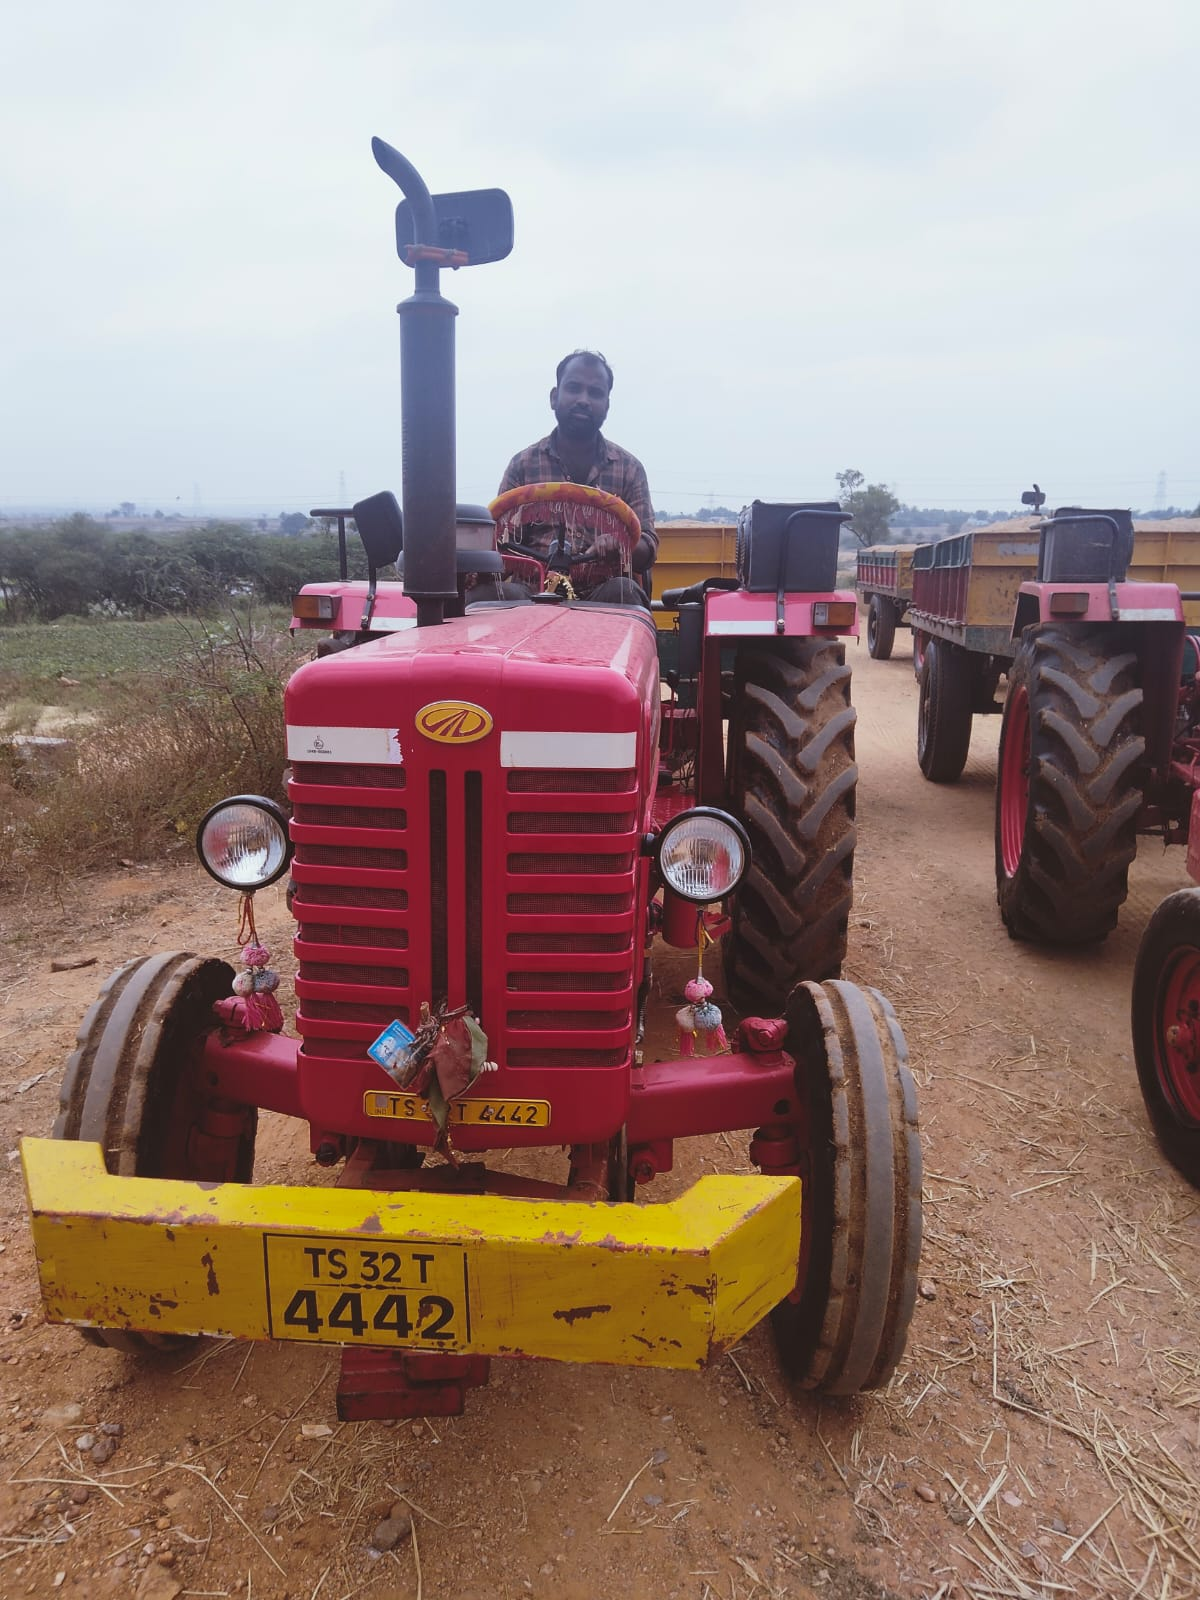license_plate: (254, 1226, 476, 1368)
